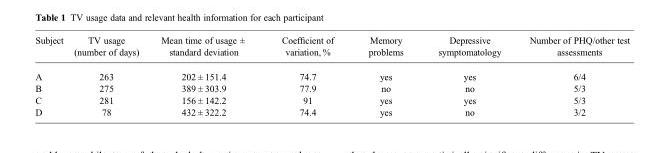table: (34, 34, 628, 116)
table column: (514, 34, 628, 116), (149, 34, 262, 116), (420, 34, 514, 116), (262, 34, 350, 116), (67, 34, 149, 116), (350, 34, 420, 116), (34, 34, 67, 116)
table column header: (34, 34, 628, 63)
table row: (34, 34, 628, 63), (34, 63, 628, 81), (34, 81, 628, 93), (34, 93, 628, 105), (34, 105, 628, 116)
